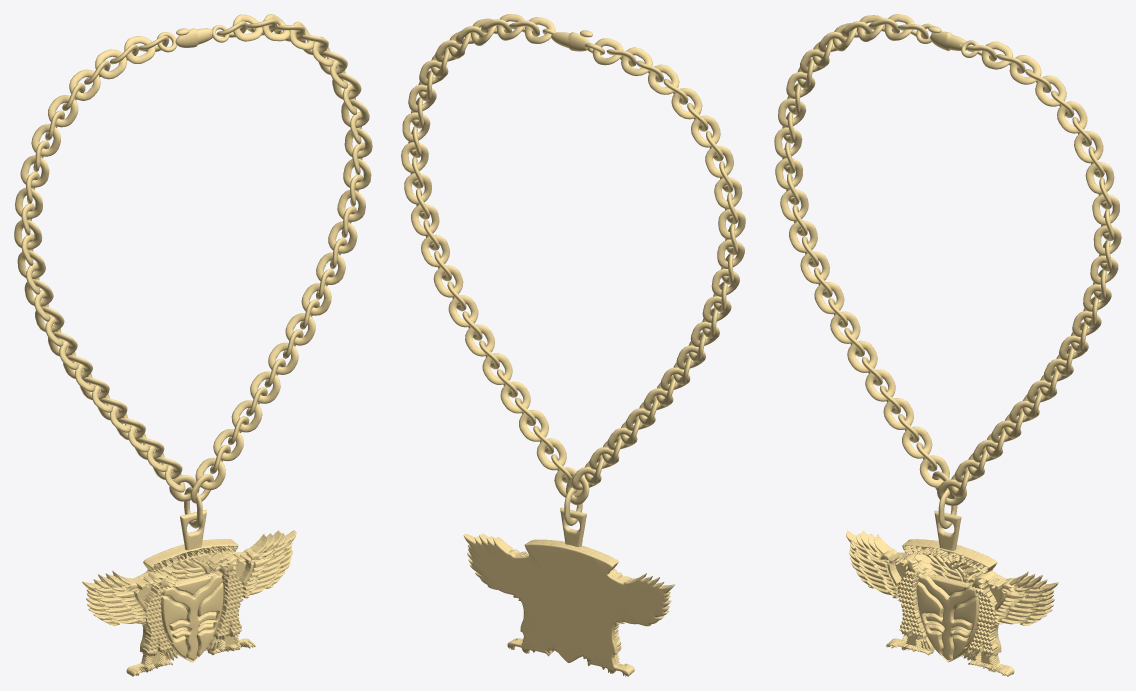
The model's file is mgy-eagle-necklace.glb.
The picture shows the model from 3 angles, left to right: view 1: azimuth 30°, elevation 25°; view 2: azimuth 150°, elevation 25°; view 3: azimuth 330°, elevation 25°; orthographic projection.
Visible parts, largest first — view 1: Cuban_chain, Eagle_crest_pendant, Lobster_clasp; view 2: Cuban_chain, Eagle_crest_pendant, Lobster_clasp; view 3: Cuban_chain, Eagle_crest_pendant, Lobster_clasp.
Part boxes in pixels (box(x1,y1,x2,y2)): Cuban_chain: box(14, 14, 372, 528); Eagle_crest_pendant: box(82, 510, 296, 676); Lobster_clasp: box(157, 25, 229, 52); Cuban_chain: box(401, 14, 745, 525); Eagle_crest_pendant: box(463, 507, 674, 676); Lobster_clasp: box(542, 28, 604, 55); Cuban_chain: box(774, 14, 1121, 529); Eagle_crest_pendant: box(846, 510, 1058, 676); Lobster_clasp: box(916, 23, 978, 57).
Bounding box in the file's own units: 0.1426 × 0.2521 × 0.012.
